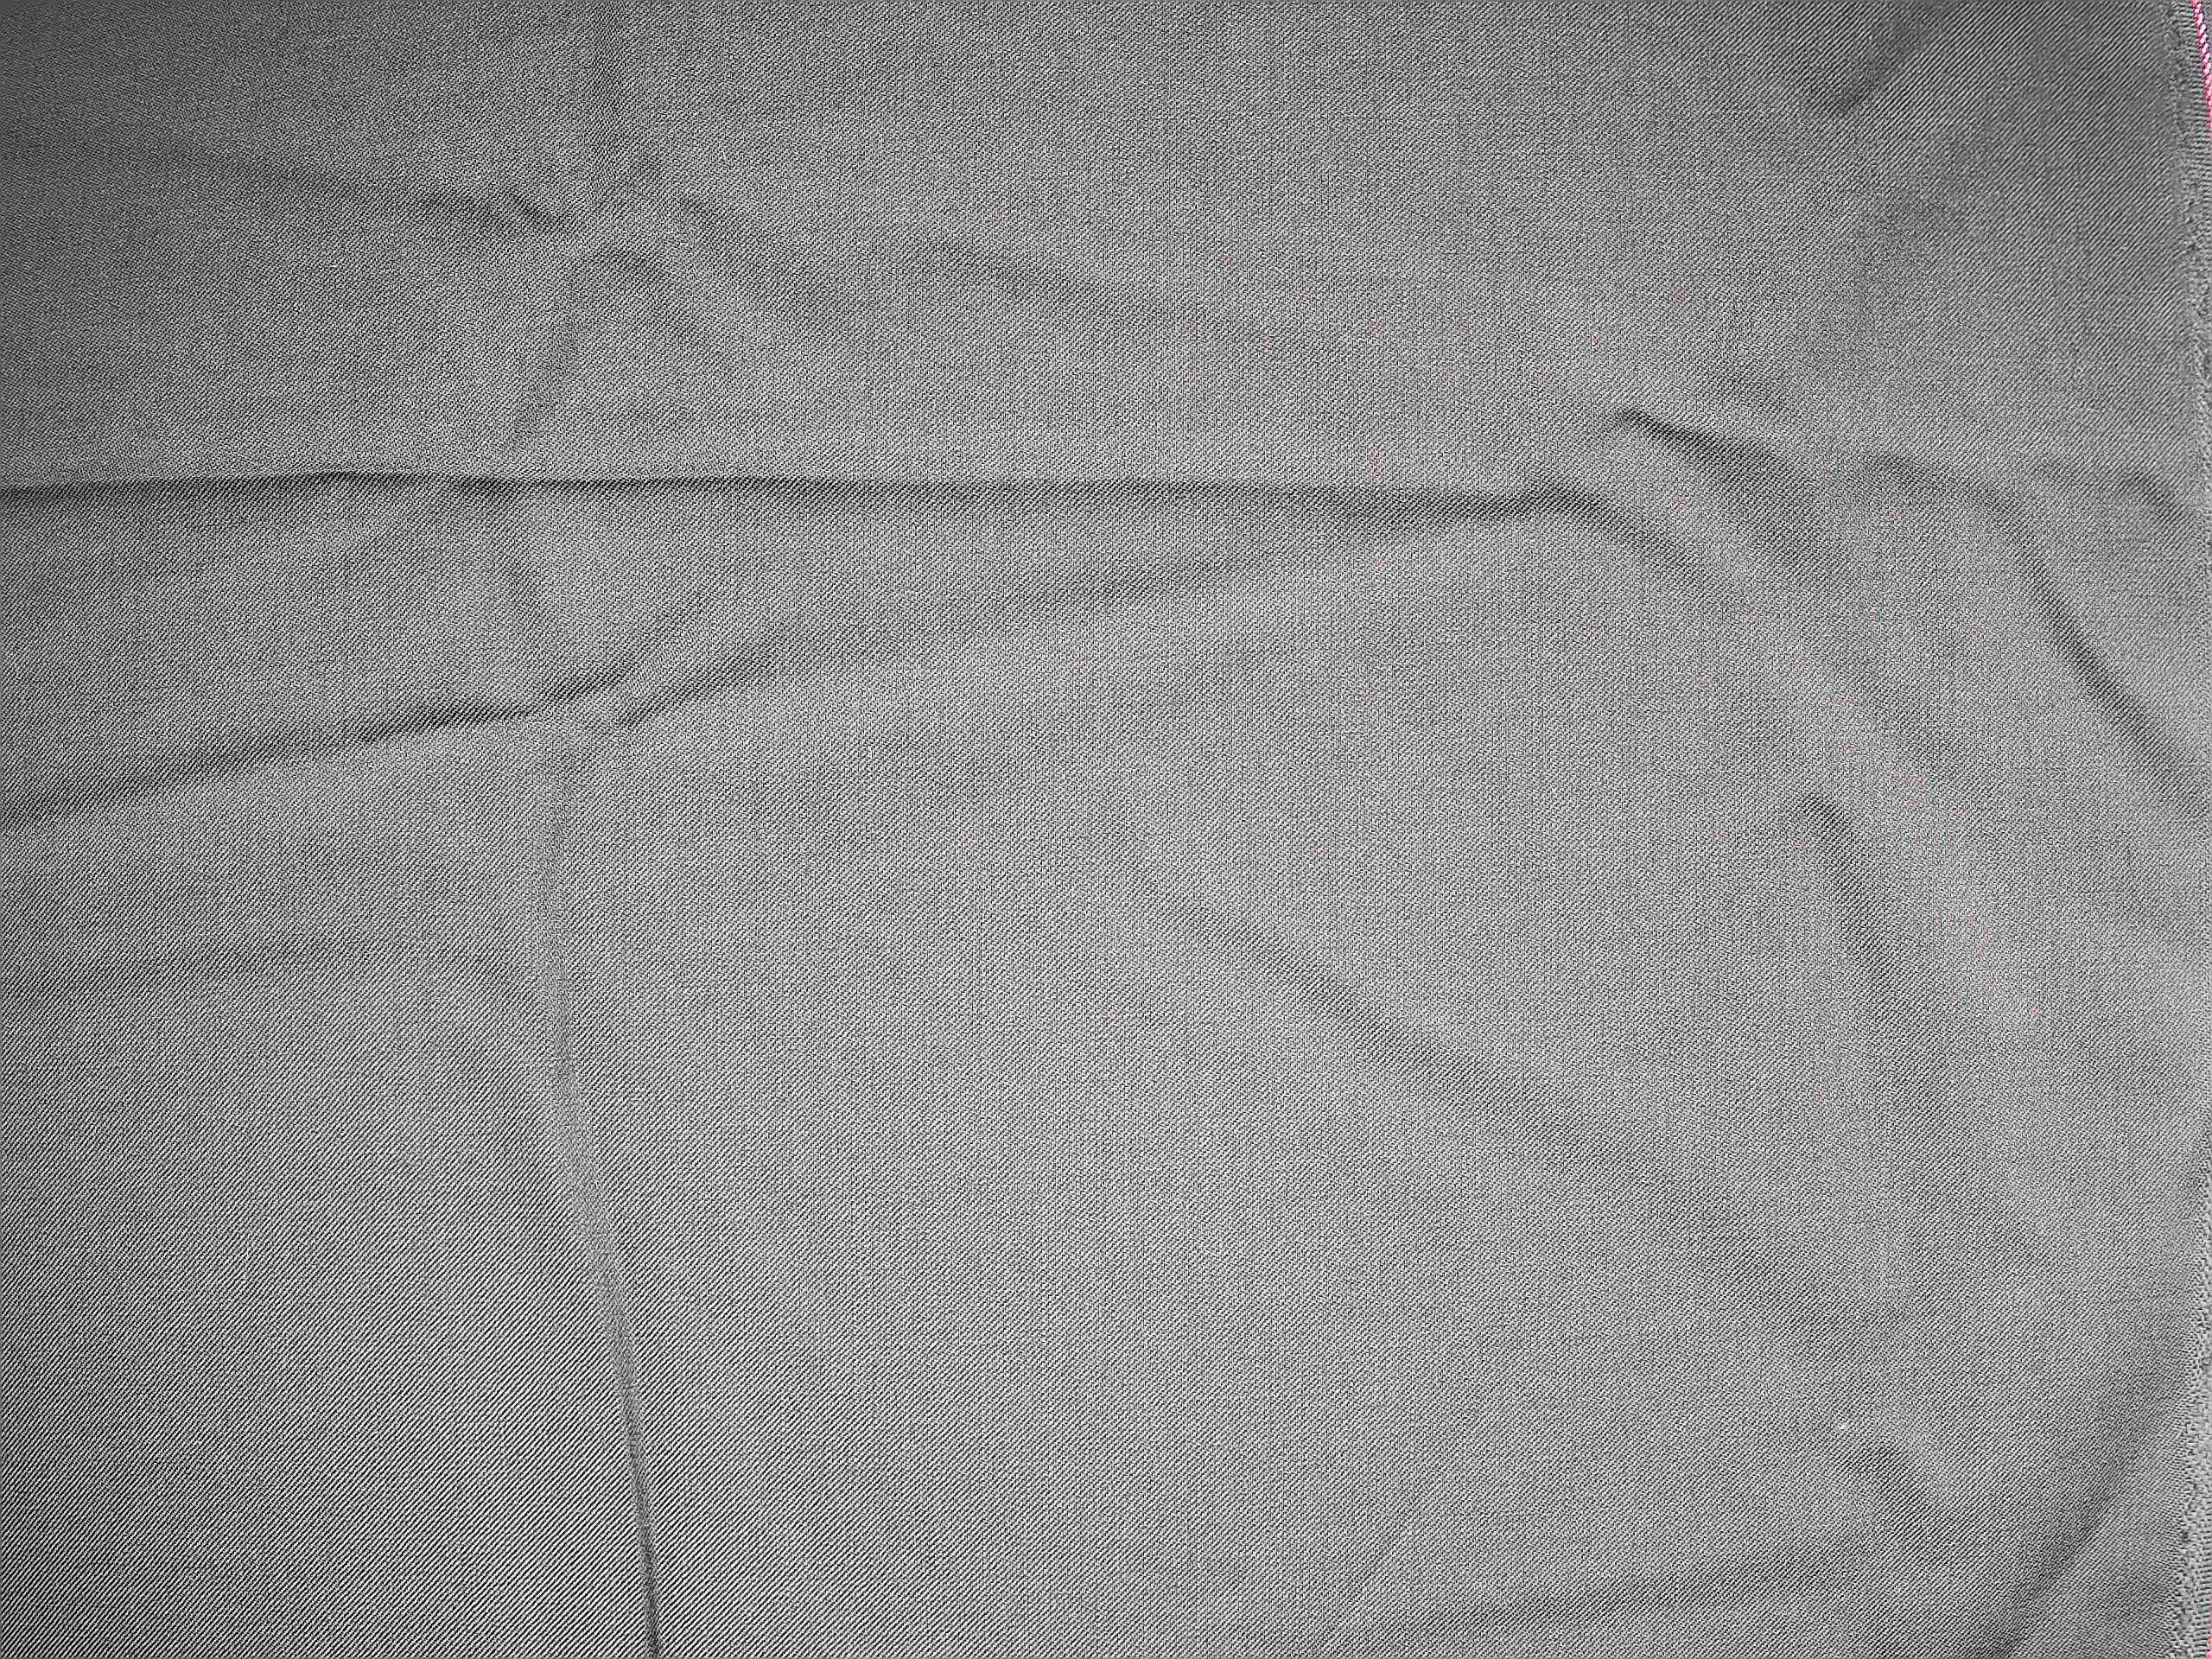others: (697, 619, 1562, 681)
